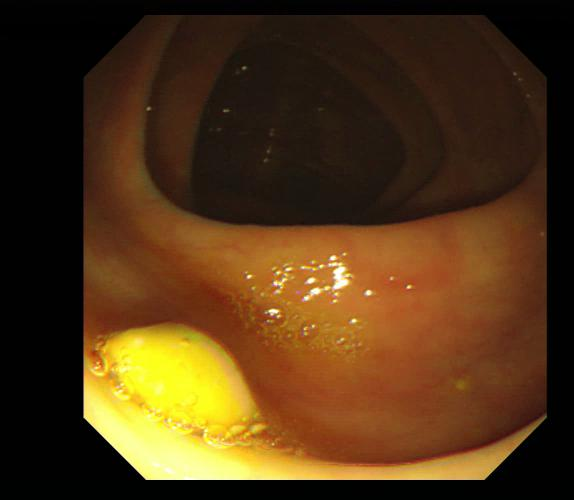polyp: (99, 322, 267, 448)
